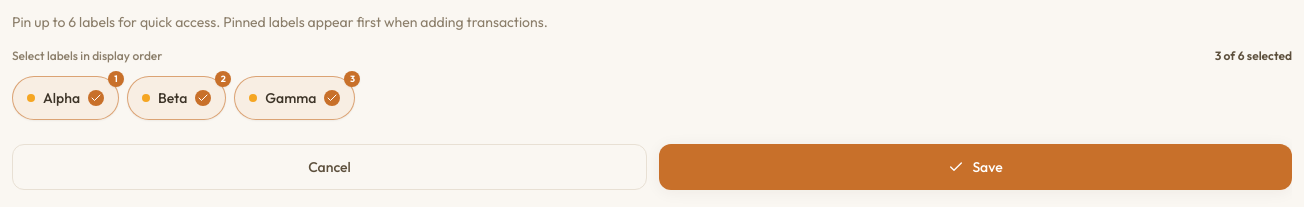
Test: QuickLabelPicker › renumbers the remaining selections when one is removed
This screenshot has width=1304, height=207.
Click the button with aria-label "Alpha, position 1 of 3".
click(66, 98)  # box [12, 76, 119, 120]
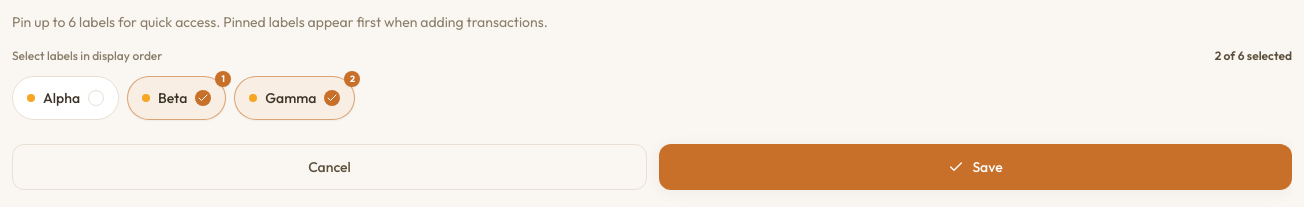
Check: the button with aria-label "Beta, position 1 of 2" is shown, box [127, 76, 226, 120]
Check: the button with aria-label "Gamma, position 2 of 2" is shown, box [234, 76, 356, 120]
